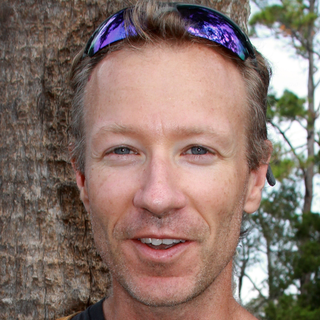eye: (173, 142, 221, 163), (100, 143, 143, 161)
